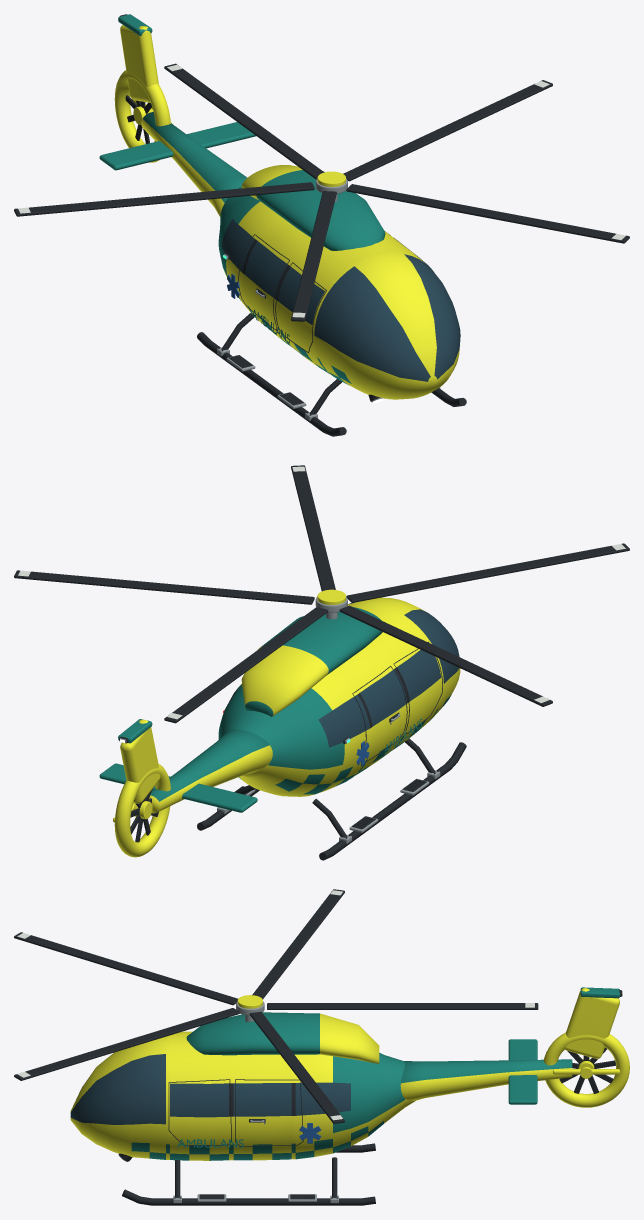
Rendered from ambulance_helicopter.glb.
3 renders of one model, top to bottom at view 1: azimuth 30°, elevation 25°; view 2: azimuth 150°, elevation 25°; view 3: azimuth 270°, elevation 25°, orthographic. The views are drawn at different scales.
Parts seen in each view (by area): view 1: Glazed ambulance fuselage, Turbine fairing, Tail boom, Main rotor blade.001, Main rotor blade.003, Main rotor blade.004, Horizontal stabilizer, Main rotor blade, Swept yellow tail fin, Main rotor blade.002, Molded fenestron shroud, Black tubular skid; view 2: Glazed ambulance fuselage, Turbine fairing, Tail boom, Main rotor blade.004, Main rotor blade.002, Molded fenestron shroud, Main rotor blade.001, Main rotor blade, Main rotor blade.003, Swept yellow tail fin, Horizontal stabilizer, Black tubular skid; view 3: Glazed ambulance fuselage, Turbine fairing, Tail boom, Molded fenestron shroud, Swept yellow tail fin, Main rotor blade.003, Main rotor blade.002, Main rotor blade, Black tubular skid.001, Main rotor blade.004, Main rotor blade.001, Horizontal stabilizer.
Part boxes in pixels (left/top/right/bottom): Glazed ambulance fuselage: left=218, top=186, right=460, bottom=399; Turbine fairing: left=241, top=165, right=385, bottom=250; Tail boom: left=141, top=112, right=247, bottom=217; Main rotor blade.001: left=14, top=182, right=314, bottom=216; Main rotor blade.003: left=346, top=184, right=629, bottom=243; Main rotor blade.004: left=343, top=80, right=552, bottom=181; Horizontal stabilizer: left=99, top=122, right=255, bottom=170; Main rotor blade: left=164, top=63, right=324, bottom=179; Swept yellow tail fin: left=120, top=25, right=158, bottom=102; Main rotor blade.002: left=291, top=191, right=336, bottom=321; Molded fenestron shroud: left=114, top=70, right=170, bottom=162; Black tubular skid: left=197, top=332, right=346, bottom=436; Glazed ambulance fuselage: left=218, top=597, right=460, bottom=796; Turbine fairing: left=241, top=607, right=382, bottom=716; Tail boom: left=149, top=729, right=272, bottom=813; Main rotor blade.004: left=14, top=570, right=314, bottom=604; Main rotor blade.002: left=346, top=543, right=629, bottom=602; Molded fenestron shroud: left=114, top=764, right=170, bottom=857; Main rotor blade.001: left=339, top=605, right=552, bottom=706; Main rotor blade: left=164, top=607, right=328, bottom=723; Main rotor blade.003: left=291, top=465, right=335, bottom=591; Swept yellow tail fin: left=120, top=719, right=160, bottom=803; Horizontal stabilizer: left=99, top=763, right=257, bottom=812; Black tubular skid: left=319, top=742, right=466, bottom=860; Glazed ambulance fuselage: left=70, top=1031, right=415, bottom=1160; Turbine fairing: left=186, top=1012, right=379, bottom=1063; Tail boom: left=400, top=1059, right=572, bottom=1100; Molded fenestron shroud: left=543, top=1032, right=629, bottom=1107; Swept yellow tail fin: left=564, top=988, right=619, bottom=1058; Main rotor blade.003: left=14, top=1008, right=240, bottom=1080; Main rotor blade.002: left=14, top=932, right=237, bottom=1005; Main rotor blade: left=267, top=1003, right=538, bottom=1009; Black tubular skid.001: left=122, top=1189, right=375, bottom=1205; Main rotor blade.004: left=249, top=1011, right=344, bottom=1123; Main rotor blade.001: left=252, top=889, right=344, bottom=999; Horizontal stabilizer: left=508, top=1039, right=537, bottom=1104.
Size of the model in its own units: 9.48 by 3.6 by 10.59.
